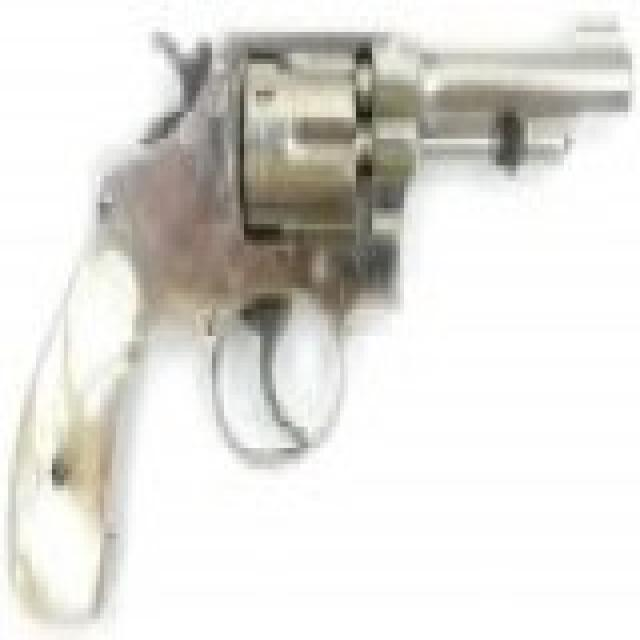gun: (16, 11, 628, 597)
